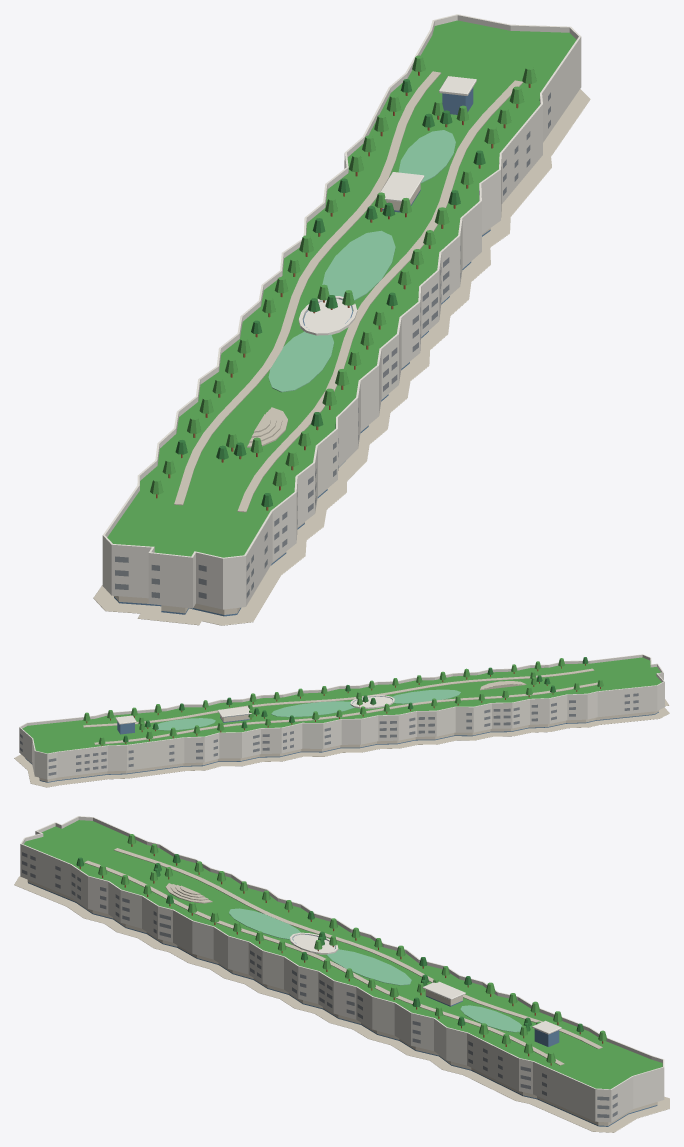
Rendered from transit-center.glb.
3 renders of one model, top to bottom at view 1: azimuth 30°, elevation 25°; view 2: azimuth 150°, elevation 25°; view 3: azimuth 270°, elevation 25°, orthographic. The views are drawn at different scales.
Parts seen in each view (by area): view 1: transit-center_body, transit-center_night_glow; view 2: transit-center_body, transit-center_night_glow; view 3: transit-center_body, transit-center_night_glow.
Boxes of the visible parts, x1,y1,x2,y2 form: transit-center_body: (93, 14, 590, 625); transit-center_night_glow: (103, 45, 580, 614); transit-center_body: (14, 654, 669, 787); transit-center_night_glow: (23, 685, 664, 781); transit-center_body: (14, 816, 669, 1132); transit-center_night_glow: (27, 856, 663, 1125).
Bounding box in the file's own units: 342 × 30 × 340.
